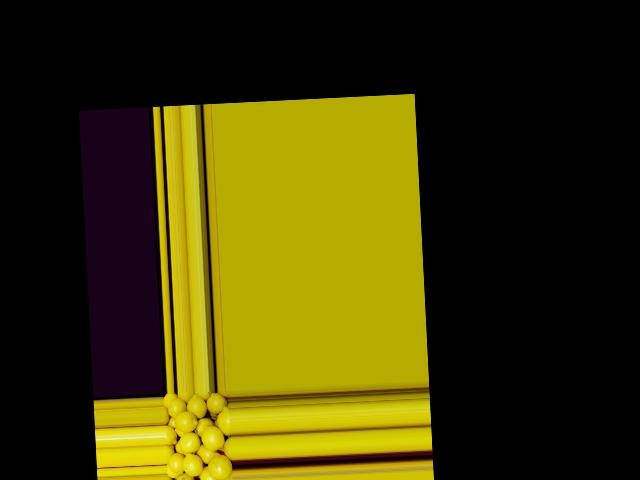lemon: (216, 403, 231, 435)
